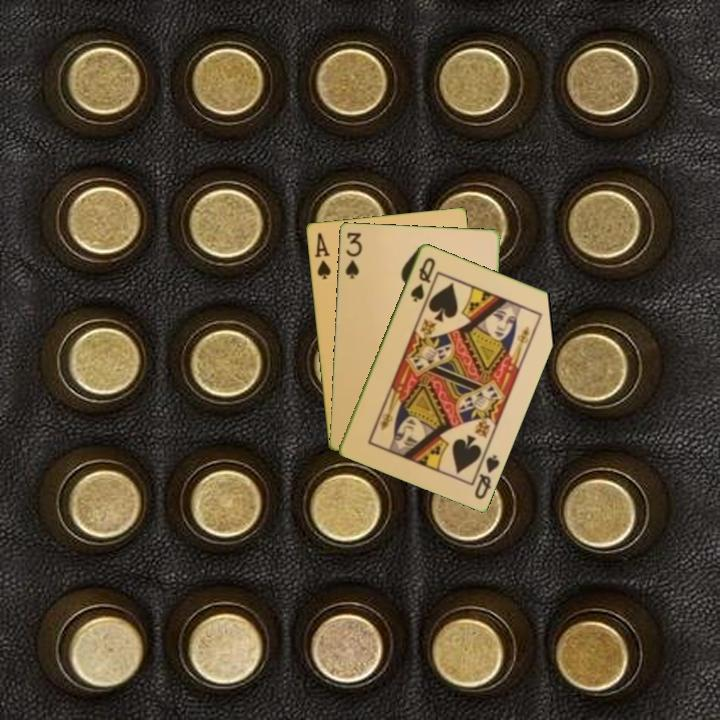3s: (342, 228, 364, 281)
As: (311, 229, 333, 282)
Qs: (468, 447, 502, 502), (407, 253, 438, 305)
